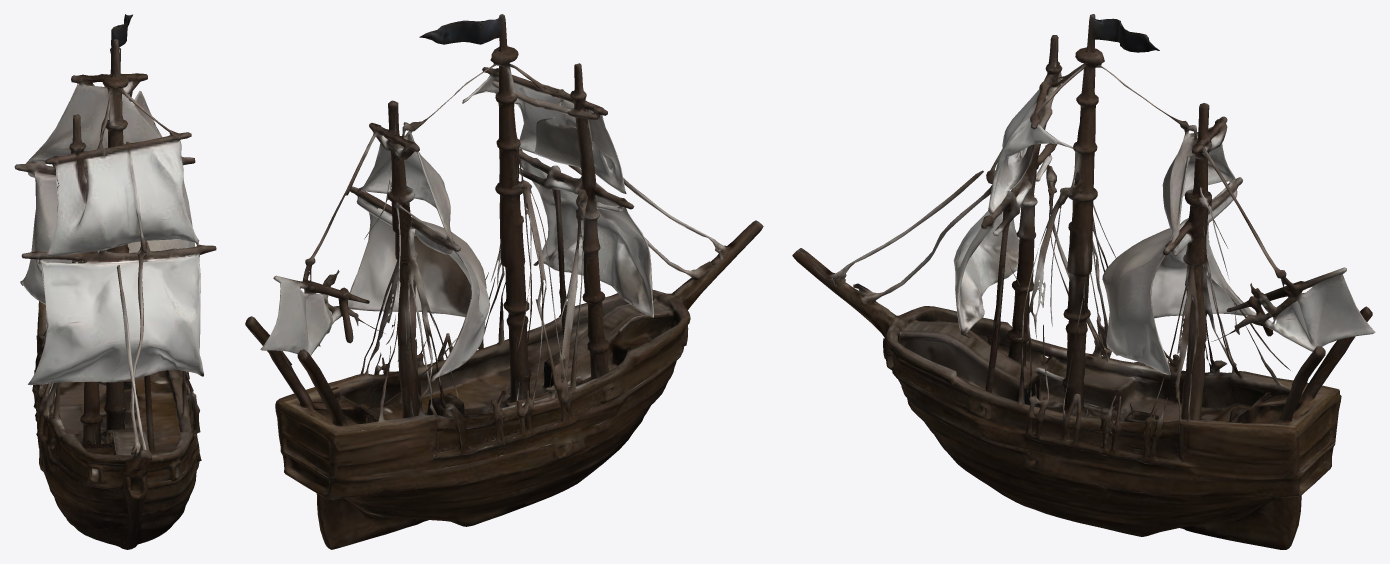
The model's file is token_ship.glb.
3 views of the same model, side by side, from view 1: azimuth 30°, elevation 25°; view 2: azimuth 150°, elevation 25°; view 3: azimuth 270°, elevation 25° (orthographic). The views are drawn at different scales.
Size of the model in its own units: 0.5211 by 0.9069 by 0.9655.
Materials: 1 (1 with a texture image).
